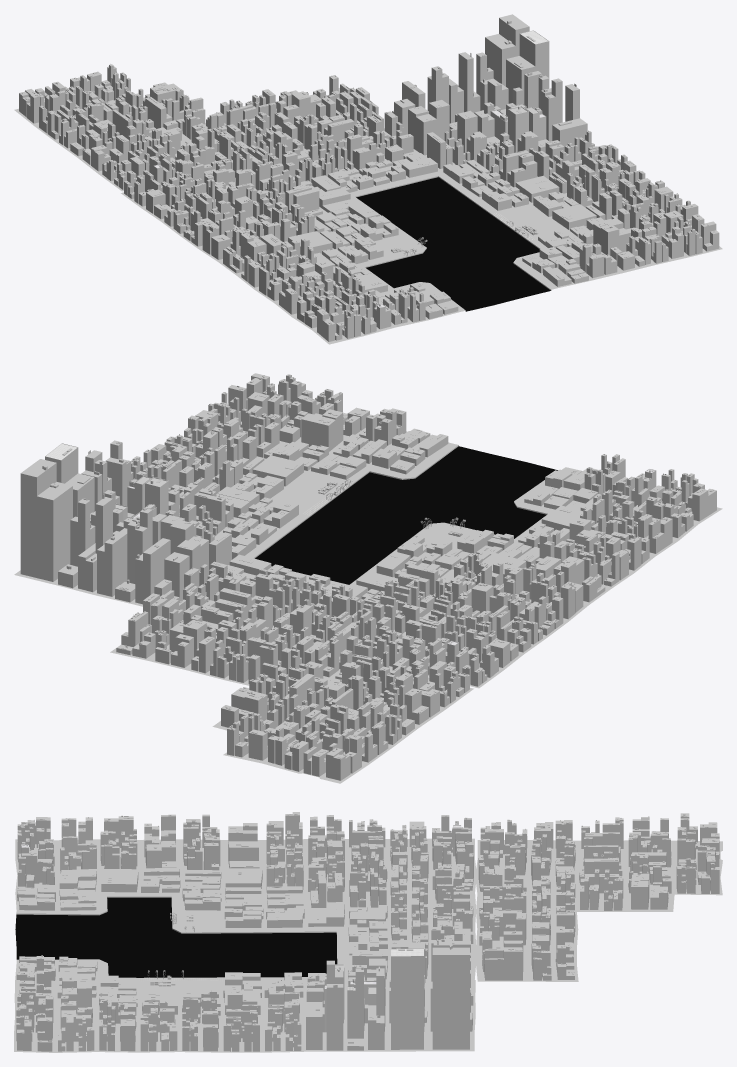
File: ciudad_07.DAE
The picture shows the model from 3 angles, top to bottom: view 1: azimuth 30°, elevation 25°; view 2: azimuth 150°, elevation 25°; view 3: azimuth 270°, elevation 25°; orthographic projection. The views are drawn at different scales.
Visible parts, largest first — view 1: Object01, Object08, Plane01, Object07, Object02, Object05, Object06, Object03, edificios_camara06, Object04; view 2: Object01, Object08, Plane01, Object07, Object02, Object05, Object06, Object03, edificios_camara06; view 3: Object01, Object08, Plane01, Object07, Object02, Object05, Object06, Object03, edificios_camara06, Object04.
Part boxes in pixels (box(x1,y1,x2,y2)): Object01: box(121, 111, 722, 344); Object08: box(14, 64, 378, 191); Plane01: box(288, 153, 604, 319); Object07: box(356, 177, 550, 311); Object02: box(384, 14, 587, 146); Object05: box(350, 171, 565, 311); Object06: box(408, 79, 549, 156); Object03: box(426, 128, 514, 173); edificios_camara06: box(490, 104, 546, 152); Object04: box(457, 110, 499, 161); Object01: box(131, 373, 722, 688); Object08: box(110, 590, 473, 783); Plane01: box(214, 428, 601, 599); Object07: box(255, 446, 557, 584); Object02: box(14, 440, 189, 606); Object05: box(246, 443, 560, 586); Object06: box(90, 479, 208, 575); Object03: box(165, 503, 231, 569); edificios_camara06: box(115, 476, 168, 522); Object01: box(14, 812, 476, 1052); Object08: box(476, 813, 722, 981); Plane01: box(15, 868, 389, 1016); Object07: box(15, 897, 337, 977); Object02: box(304, 927, 475, 1051); Object05: box(16, 893, 347, 998); Object06: box(304, 940, 429, 1032); Object03: box(304, 953, 387, 1015); edificios_camara06: box(324, 964, 376, 1032); Object04: box(346, 958, 387, 1015).
Size of the model in its own units: 1470 by 2054 by 314.
